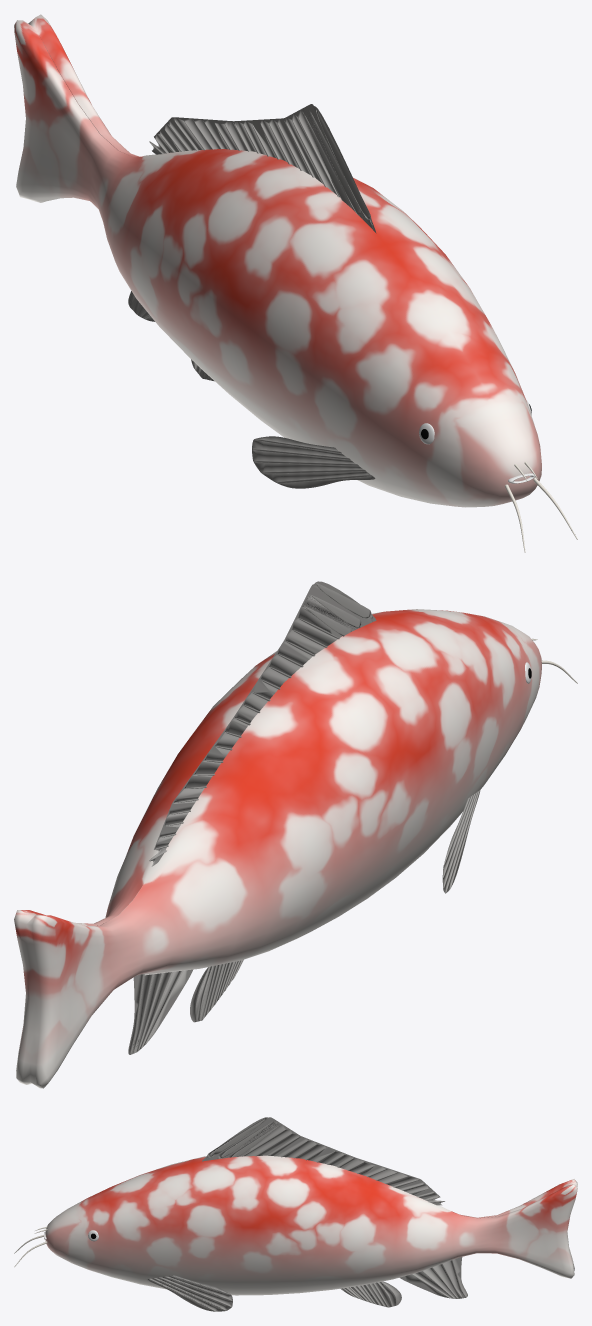
File: koi_static.obj
3 renders of one model, top to bottom at view 1: azimuth 30°, elevation 25°; view 2: azimuth 150°, elevation 25°; view 3: azimuth 270°, elevation 25°, orthographic. The views are drawn at different scales.
Visible parts, largest first — view 1: koi; view 2: koi; view 3: koi.
Boxes of the visible parts, x1,y1,x2,y2 form: koi: (14,14,577,552); koi: (14,581,577,1088); koi: (14,1117,577,1311).
Bounding box in the file's own units: 0.1048 × 0.1862 × 0.5.
Materials: 1 (1 with a texture image).
